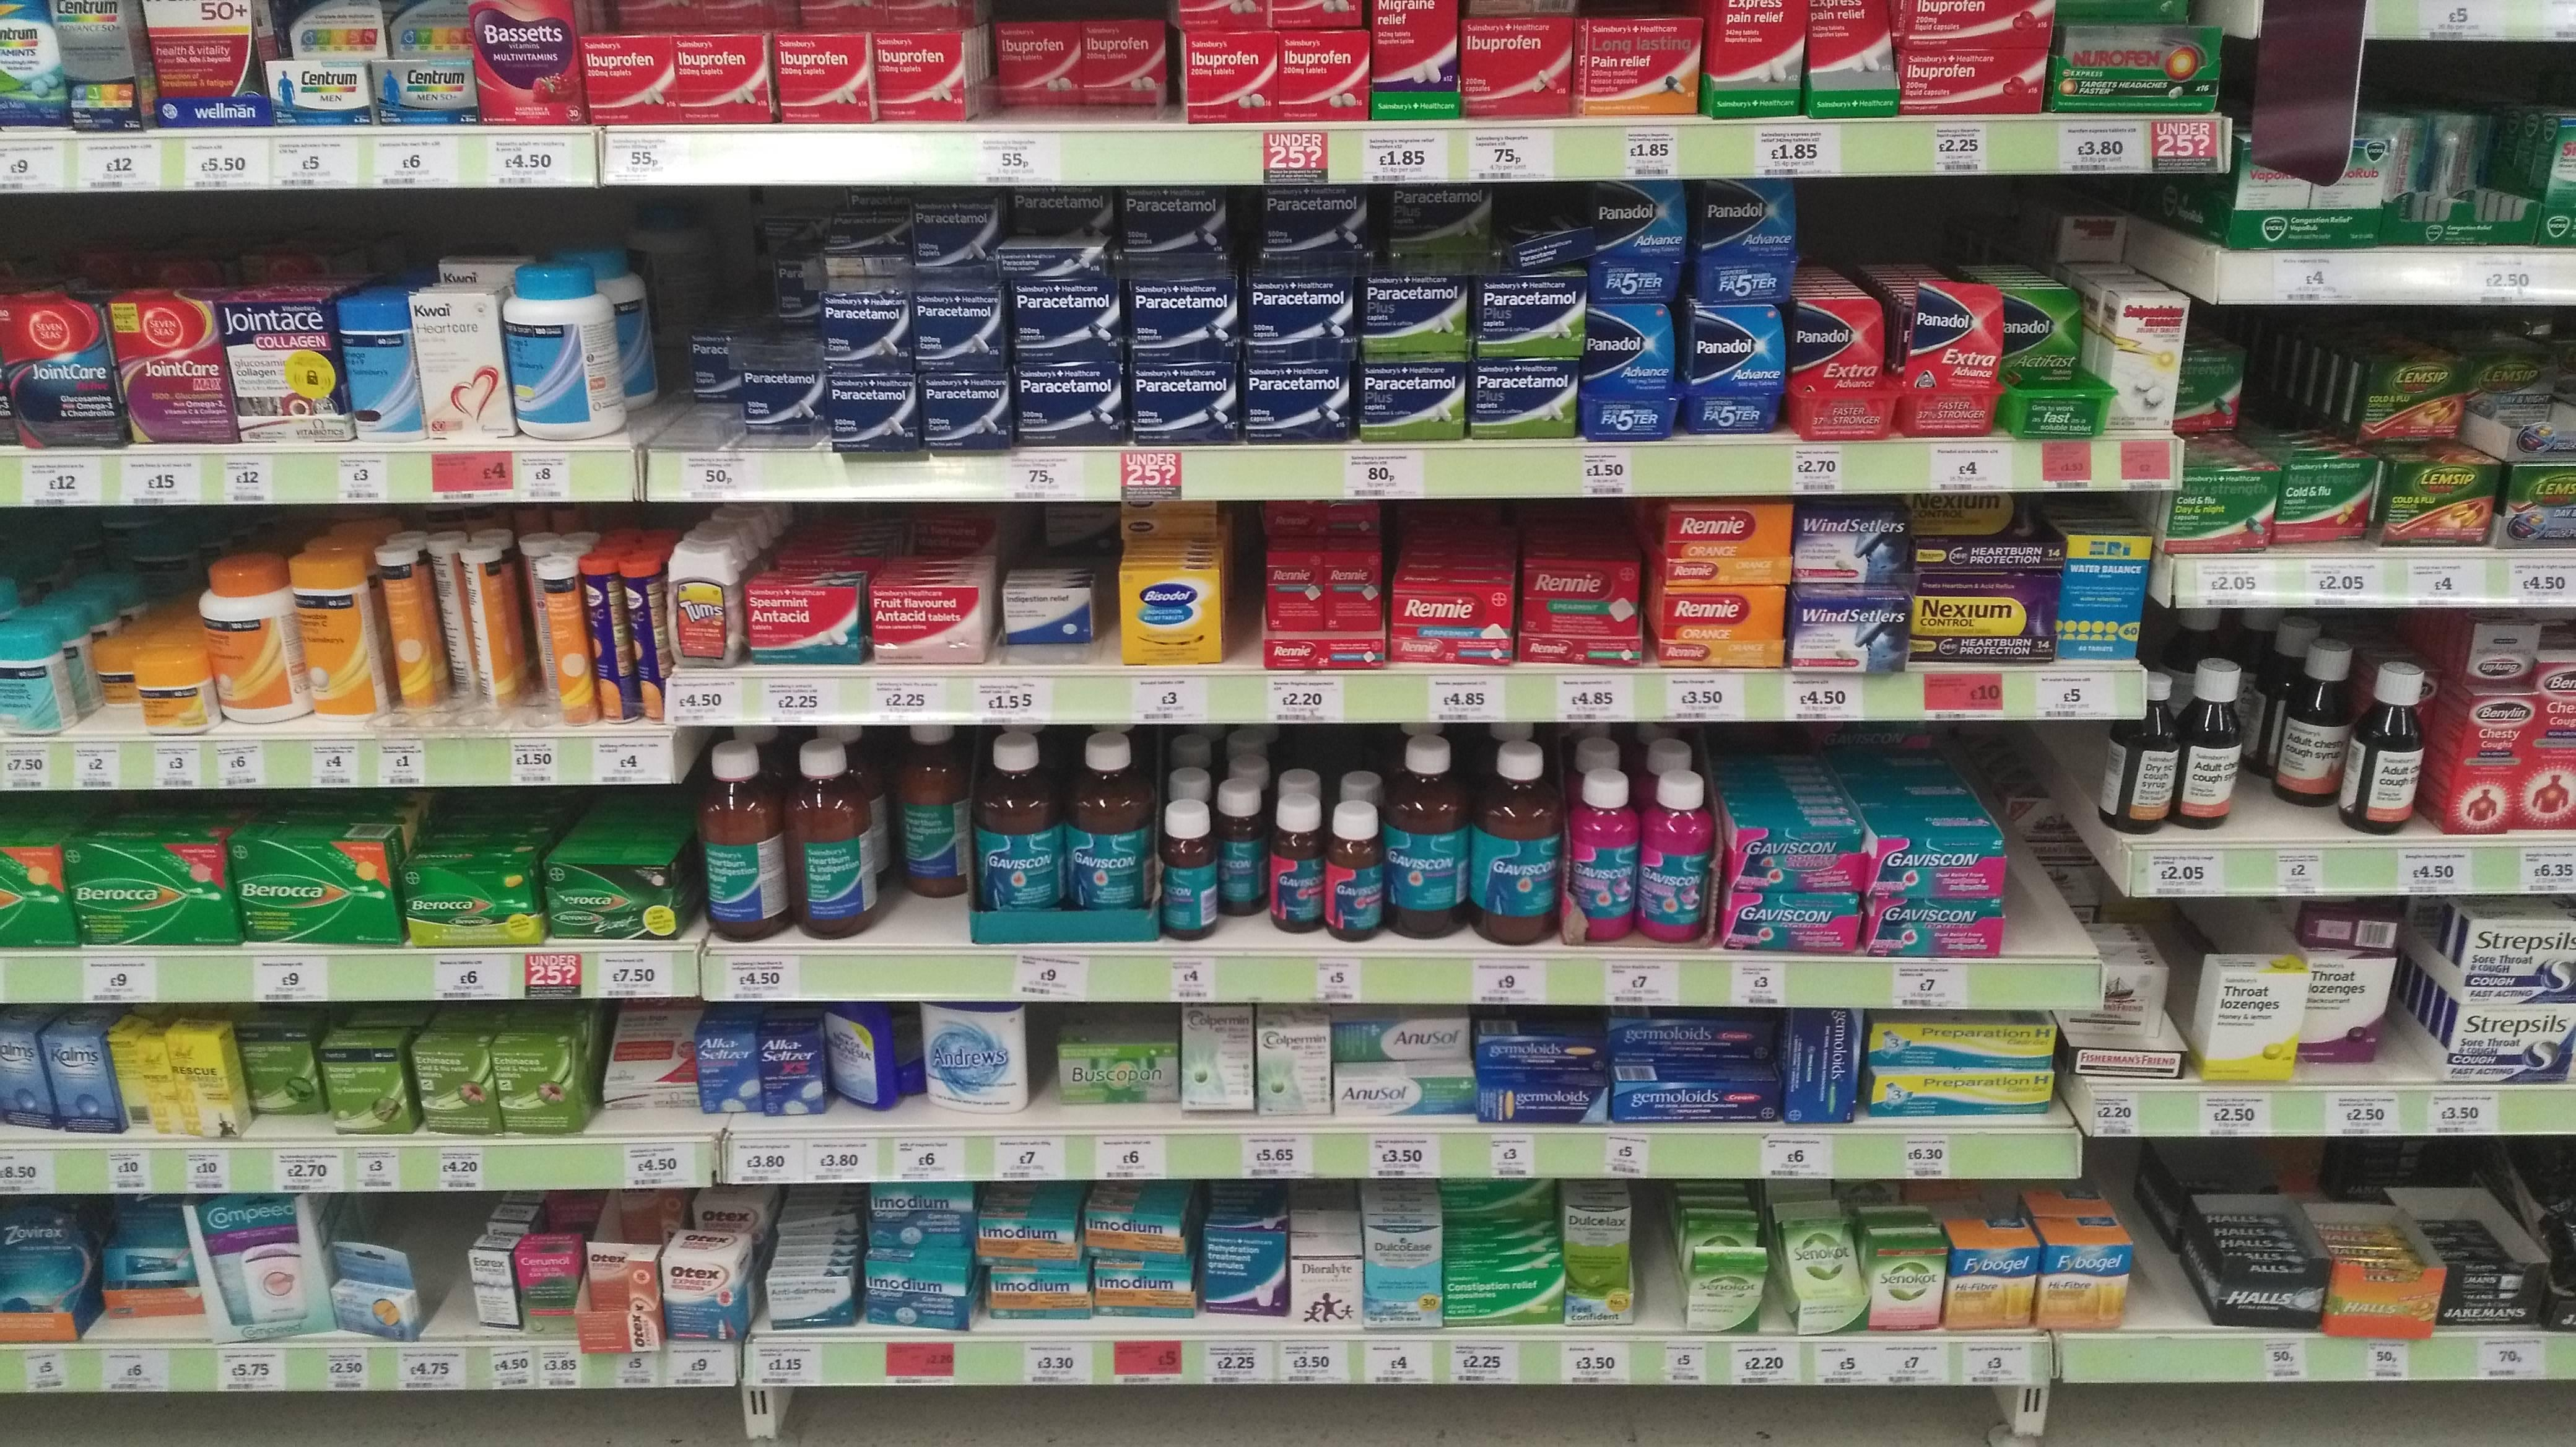misalignment: (322, 1224, 433, 1350), (593, 998, 704, 1118), (810, 1003, 909, 1113), (1782, 1215, 1868, 1336), (1679, 1233, 1767, 1327), (577, 1235, 660, 1316)
